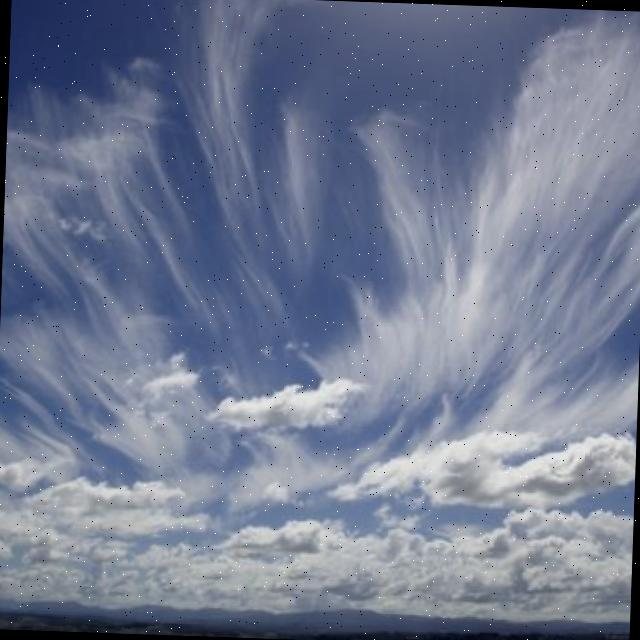Ci: (1, 34, 640, 582)
